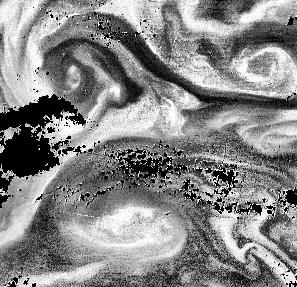CE: (42, 184, 194, 269), (14, 9, 119, 123), (240, 43, 283, 87)
